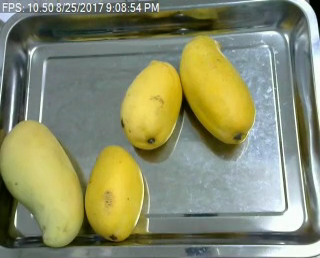Mango: (0, 118, 86, 251), (178, 32, 260, 145), (89, 142, 148, 243), (121, 59, 182, 150)
